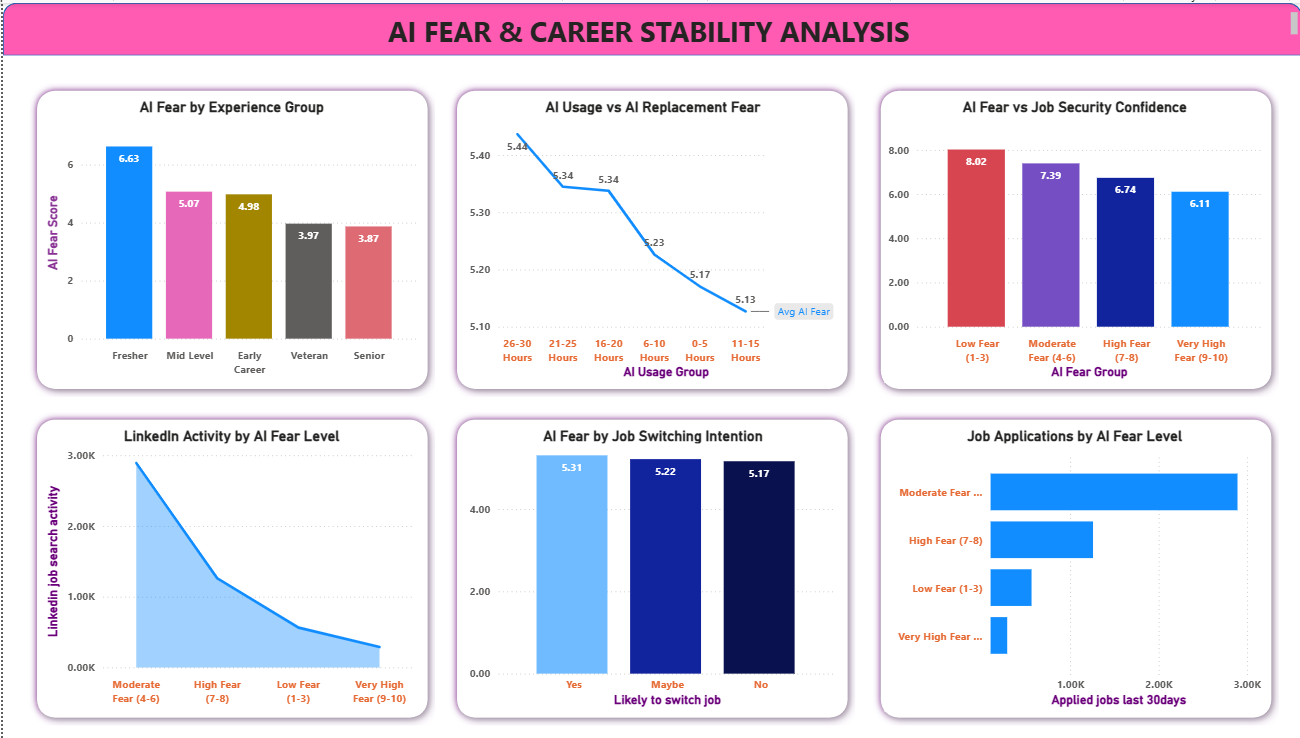

The page's visual inventory and layout, read from the dashboard file:
{"tool":"powerbi","page":{"name":"Page 4","canvas":[1500,850],"ordinal":3},"visuals":[{"type":"shape","box":[0,0,1499.9,60.6],"z":0},{"type":"textbox","box":[0,5.8,1499.9,49.1],"z":1000},{"type":"shape","box":[30.3,92.4,469.2,362.3],"z":2000},{"type":"shape","box":[515.4,92.4,469.2,362.3],"z":3000},{"type":"shape","box":[1004.8,92.4,469.2,362.3],"z":4000},{"type":"shape","box":[1004.8,472.1,469.2,362.3],"z":5000},{"type":"shape","box":[515.4,472.1,469.2,362.3],"z":6000},{"type":"shape","box":[30.3,472.1,469.2,362.3],"z":7000},{"type":"clusteredColumnChart","title":"AI Fear by Experience Group","fields":{"Category":["public developer_burnout_data.Experience Group"],"Y":["public developer_burnout_data.Avg AI Fear"]},"box":[44.8,109.7,438.9,329.1],"z":8000},{"type":"lineChart","title":"AI Usage vs AI Replacement Fear","fields":{"Category":["public developer_burnout_data.AI Usage Group"],"Y":["public developer_burnout_data.Avg AI Fear"]},"box":[534.1,109.7,433.1,329.1],"z":9000},{"type":"clusteredColumnChart","title":"AI Fear vs Job Security Confidence","fields":{"Category":["public developer_burnout_data.AI Fear Group"],"Y":["public developer_burnout_data.Avg Job Security"]},"box":[1017.8,109.7,440.3,329.1],"z":10000},{"type":"clusteredColumnChart","title":"AI Fear by Job Switching Intention","fields":{"Y":["public developer_burnout_data.Avg AI Fear"],"Category":["public developer_burnout_data.likely_to_switch_job"]},"box":[534.1,489.4,433.1,329.1],"z":11000},{"type":"lineChart","title":"LinkedIn Activity by AI Fear Level","fields":{"Y":["CountNonNull(public developer_burnout_data.linkedin_job_search_activity)"],"Category":["public developer_burnout_data.AI Fear Group"]},"box":[44.8,489.4,438.9,329.1],"z":12000},{"type":"clusteredBarChart","title":"Job Applications by AI Fear Level","fields":{"Category":["public developer_burnout_data.AI Fear Group"],"Y":["CountNonNull(public developer_burnout_data.applied_jobs_last_30_days)"]},"box":[1017.8,489.4,440.3,329.1],"z":13000}]}

Visuals, with their boxes in screenshot pixels (x1, y1, x2, y2), scaled from the page's 1500x850 canvas onto the 1300x738 screenshot:
shape: <bbox>0, 0, 1299, 53</bbox>
textbox: <bbox>0, 5, 1299, 48</bbox>
shape: <bbox>26, 80, 433, 395</bbox>
shape: <bbox>447, 80, 853, 395</bbox>
shape: <bbox>871, 80, 1277, 395</bbox>
shape: <bbox>871, 410, 1277, 724</bbox>
shape: <bbox>447, 410, 853, 724</bbox>
shape: <bbox>26, 410, 433, 724</bbox>
"AI Fear by Experience Group" clusteredColumnChart: <bbox>39, 95, 419, 381</bbox>
"AI Usage vs AI Replacement Fear" lineChart: <bbox>463, 95, 838, 381</bbox>
"AI Fear vs Job Security Confidence" clusteredColumnChart: <bbox>882, 95, 1264, 381</bbox>
"AI Fear by Job Switching Intention" clusteredColumnChart: <bbox>463, 425, 838, 711</bbox>
"LinkedIn Activity by AI Fear Level" lineChart: <bbox>39, 425, 419, 711</bbox>
"Job Applications by AI Fear Level" clusteredBarChart: <bbox>882, 425, 1264, 711</bbox>
